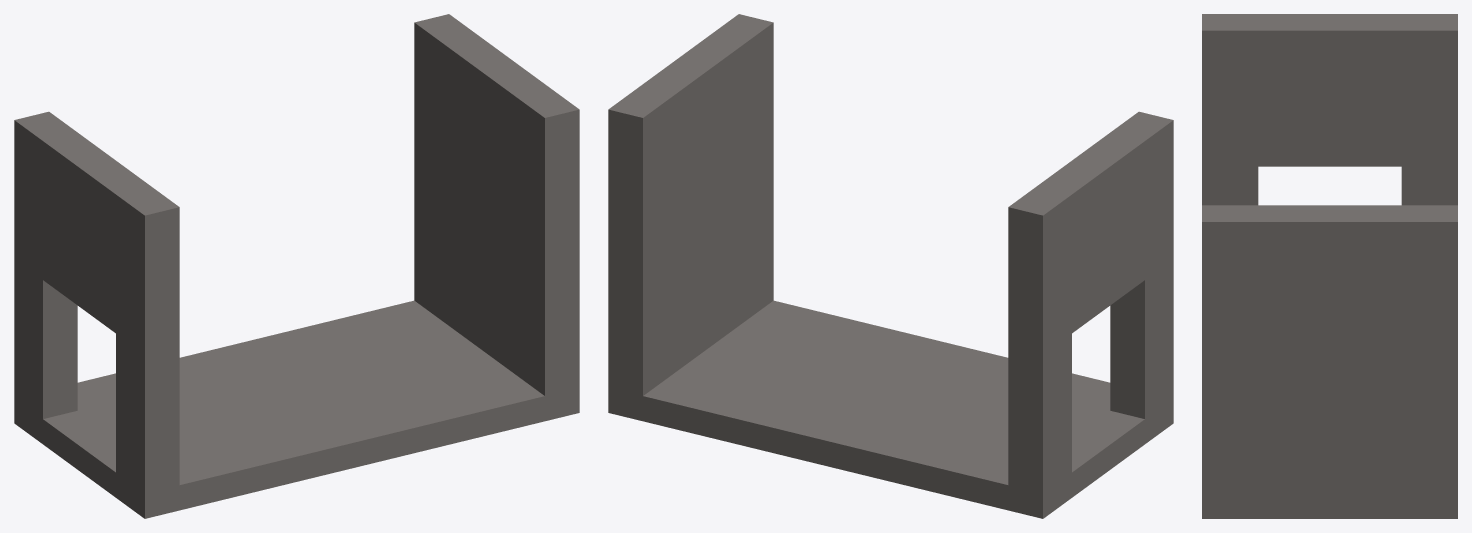
Rendered from NordEst2.fbx.
The picture shows the model from 3 angles, left to right: view 1: azimuth 30°, elevation 25°; view 2: azimuth 150°, elevation 25°; view 3: azimuth 270°, elevation 25°; orthographic projection. The views are drawn at different scales.
Parts seen in each view (by area): view 1: NordEst2; view 2: NordEst2; view 3: NordEst2.
Boxes of the visible parts, x1,y1,x2,y2 form: NordEst2: (14,14,579,518); NordEst2: (608,14,1173,518); NordEst2: (1202,14,1457,518).
Size of the model in its own units: 9.73 by 6.49 by 5.06.
